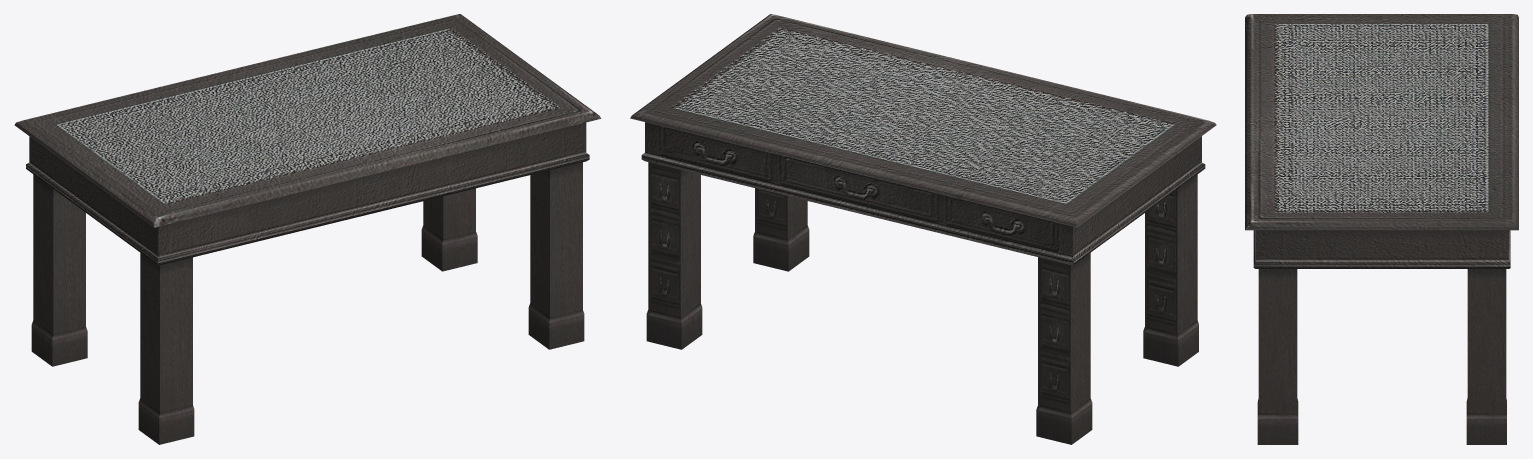
File: Table.FBX
The picture shows the model from 3 angles, left to right: view 1: azimuth 30°, elevation 25°; view 2: azimuth 150°, elevation 25°; view 3: azimuth 270°, elevation 25°; orthographic projection. The views are drawn at different scales.
Parts seen in each view (by area): view 1: Table; view 2: Table; view 3: Table.
Boxes of the visible parts, x1,y1,x2,y2 form: Table: (14, 14, 601, 444); Table: (630, 14, 1216, 444); Table: (1245, 14, 1518, 444).
Bounding box in the file's own units: 64.79 × 35.16 × 31.91.
